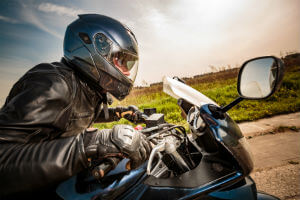helmets: (54, 14, 148, 105)
